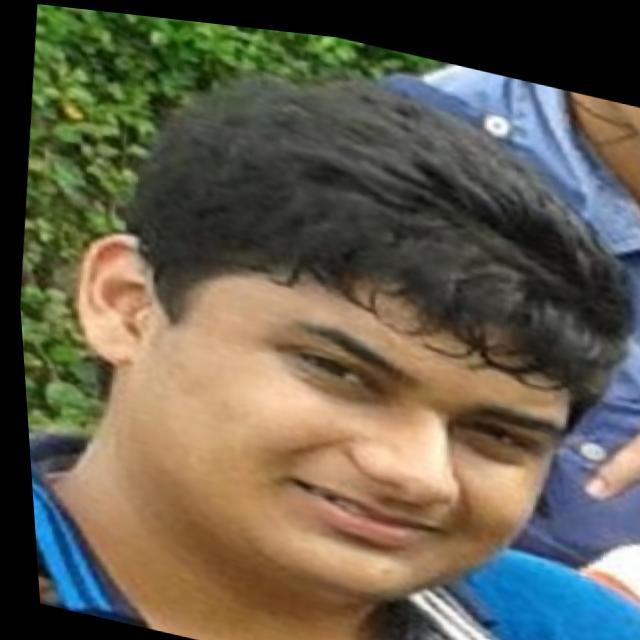Nonhelmet: (72, 49, 590, 606)
